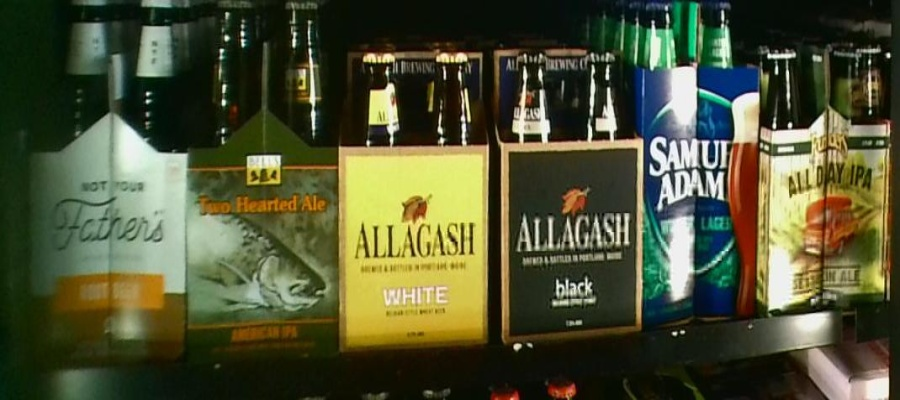bottle: (183, 2, 341, 363), (29, 2, 184, 364), (345, 43, 493, 356), (496, 40, 638, 337), (638, 4, 758, 323), (761, 39, 893, 307)
